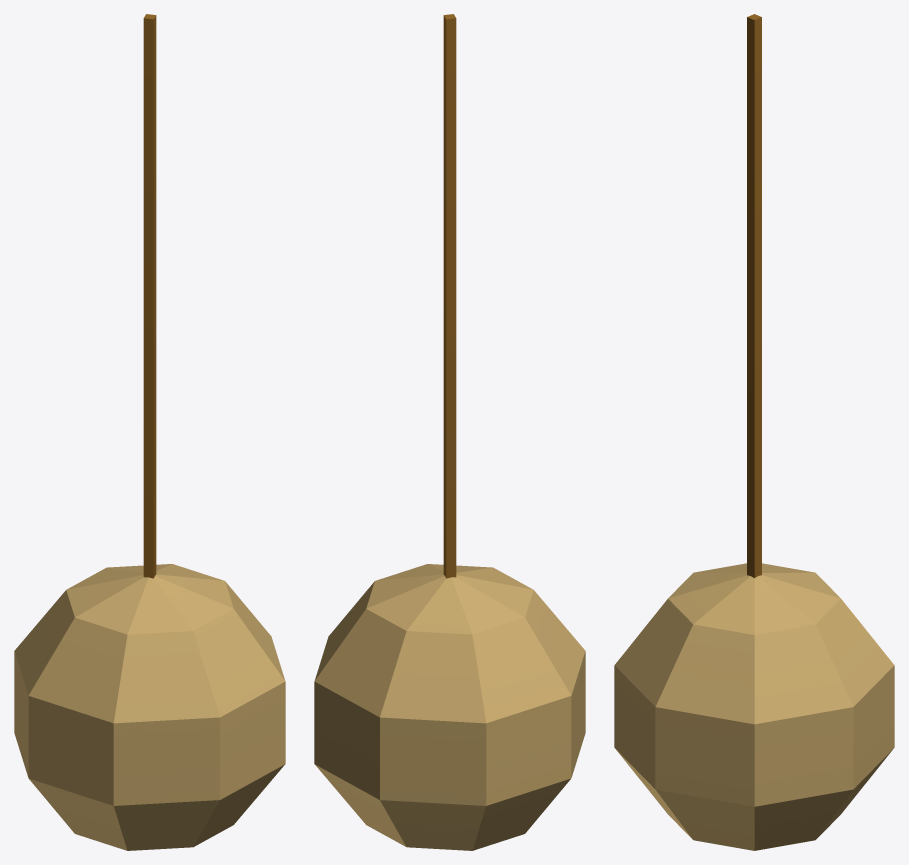
File: gold_orb_chain.glb
The picture shows the model from 3 angles, left to right: view 1: azimuth 30°, elevation 25°; view 2: azimuth 150°, elevation 25°; view 3: azimuth 270°, elevation 25°; orthographic projection.
Parts seen in each view (by area): view 1: gold_orb_chain; view 2: gold_orb_chain; view 3: gold_orb_chain.
Part boxes in pixels (left/top/right/bottom): gold_orb_chain: left=14, top=14, right=285, bottom=850; gold_orb_chain: left=314, top=14, right=585, bottom=850; gold_orb_chain: left=614, top=14, right=894, bottom=850.
Bounding box in the file's own units: 0.5706 × 1.85 × 0.5706.
